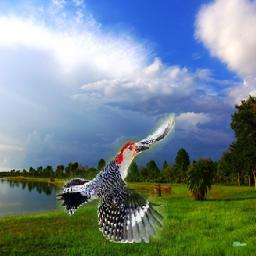Woodpecker: (57, 113, 176, 243)
